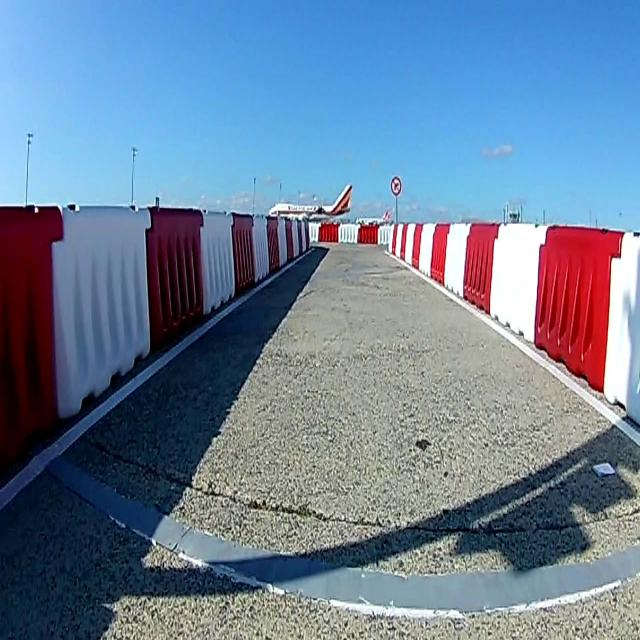sagadonulmez: (391, 177, 402, 195)
